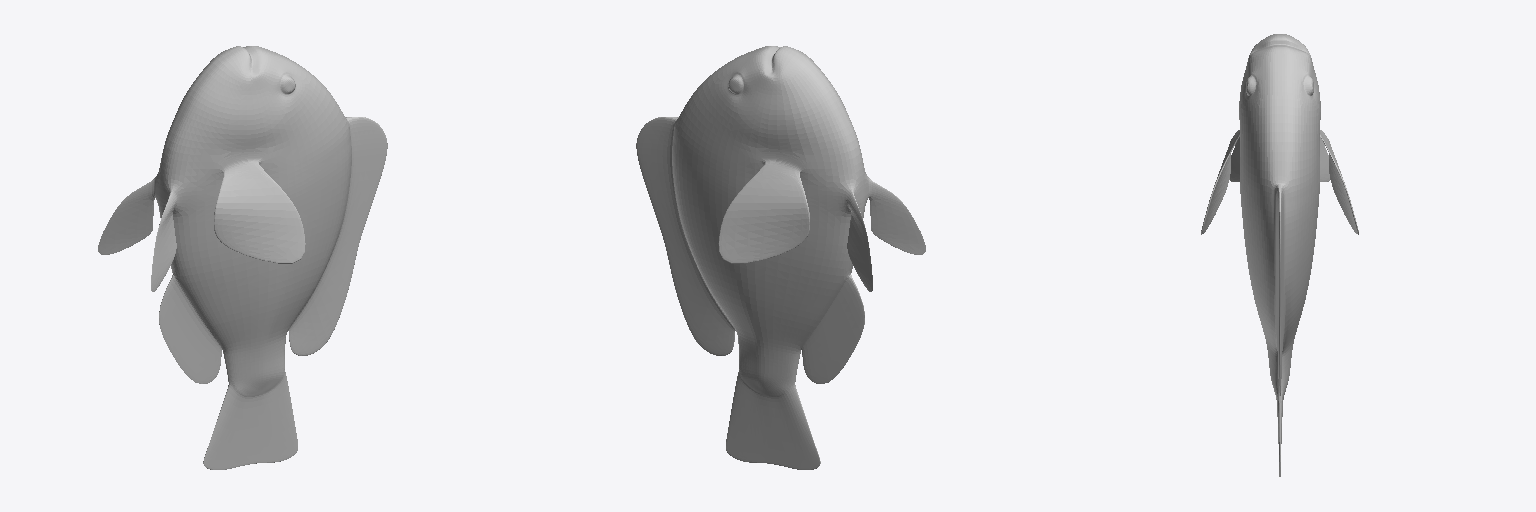
3 renders of one model, left to right at view 1: azimuth 30°, elevation 25°; view 2: azimuth 150°, elevation 25°; view 3: azimuth 270°, elevation 25°, orthographic.
Parts seen in each view (by area): view 1: 12265_Fish_v1_L2.001; view 2: 12265_Fish_v1_L2.001; view 3: 12265_Fish_v1_L2.001.
Boxes of the visible parts, x1=… form: 12265_Fish_v1_L2.001: x1=98, y1=46, x2=387, y2=469; 12265_Fish_v1_L2.001: x1=636, y1=46, x2=925, y2=469; 12265_Fish_v1_L2.001: x1=1201, y1=34, x2=1358, y2=476.
Bounding box in the file's own units: 2.24 × 3.44 × 1.16.